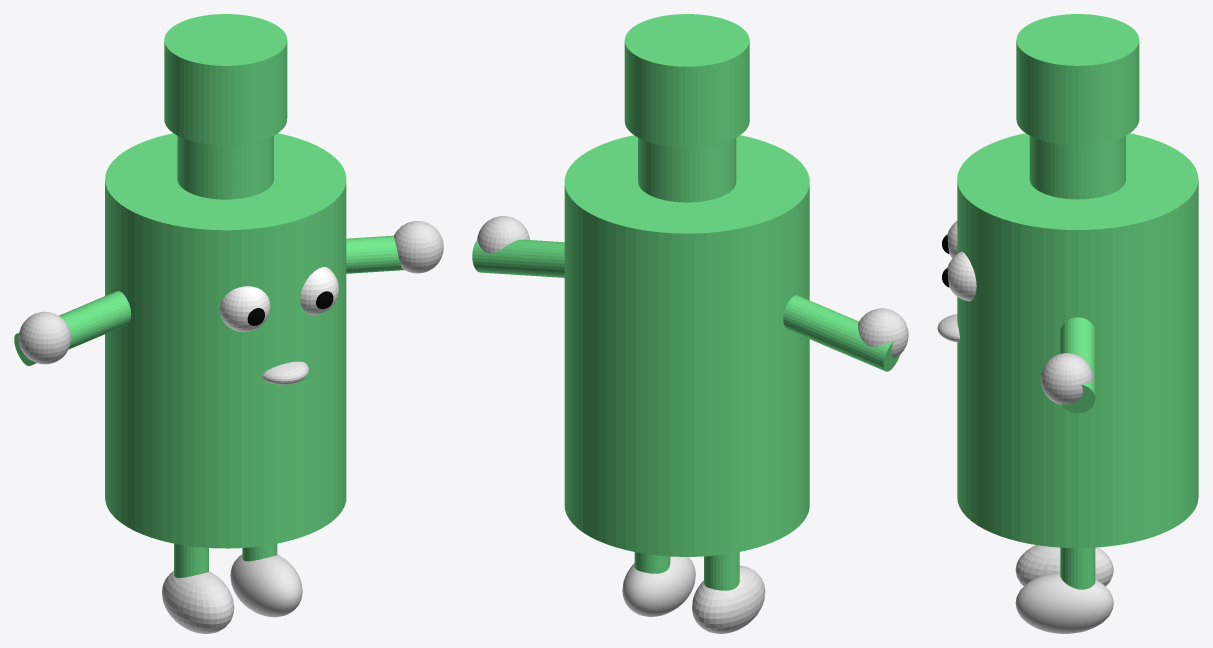
File: mascota.glb
3 views of the same model, side by side, from view 1: azimuth 30°, elevation 25°; view 2: azimuth 150°, elevation 25°; view 3: azimuth 270°, elevation 25° (orthographic).
Parts seen in each view (by area): view 1: Cuerpo, Cilindro.001, Cilindro, Esfera.008, Esfera.007, Cilindro.002, Esfera.005, Esfera.006, Cilindro.003, Esfera, Esfera.002, Cilindro.004 (+1 smaller); view 2: Cuerpo, Cilindro.001, Cilindro, Cilindro.002, Esfera.007, Esfera.008, Cilindro.003, Esfera.005, Esfera.006, Cilindro.004, Cilindro.005; view 3: Cuerpo, Cilindro.001, Cilindro, Esfera.008, Esfera.006, Cilindro.003, Esfera.007, Cilindro.005, Esfera.002, Esfera.004.
Part boxes in pixels (x1=…): Cuerpo: x1=105, y1=133, x2=346, y2=548; Cilindro.001: x1=164, y1=14, x2=287, y2=145; Cilindro: x1=177, y1=135, x2=273, y2=199; Esfera.008: x1=230, y1=554, x2=302, y2=617; Esfera.007: x1=162, y1=571, x2=234, y2=633; Cilindro.002: x1=14, y1=291, x2=131, y2=365; Esfera.005: x1=18, y1=311, x2=71, y2=364; Esfera.006: x1=394, y1=221, x2=443, y2=273; Cilindro.003: x1=346, y1=235, x2=404, y2=273; Esfera: x1=219, y1=286, x2=270, y2=331; Esfera.002: x1=300, y1=267, x2=338, y2=315; Cilindro.004: x1=174, y1=543, x2=208, y2=577; Cuerpo: x1=564, y1=135, x2=809, y2=556; Cilindro.001: x1=624, y1=14, x2=749, y2=147; Cilindro: x1=638, y1=137, x2=736, y2=202; Cilindro.002: x1=783, y1=295, x2=899, y2=371; Esfera.007: x1=692, y1=565, x2=765, y2=633; Esfera.008: x1=622, y1=556, x2=695, y2=616; Cilindro.003: x1=472, y1=239, x2=564, y2=277; Esfera.005: x1=858, y1=308, x2=908, y2=357; Esfera.006: x1=477, y1=216, x2=529, y2=253; Cilindro.004: x1=704, y1=552, x2=739, y2=590; Cilindro.005: x1=634, y1=552, x2=670, y2=573; Cuerpo: x1=957, y1=133, x2=1198, y2=547; Cilindro.001: x1=1016, y1=14, x2=1139, y2=145; Cilindro: x1=1029, y1=136, x2=1125, y2=199; Esfera.008: x1=1015, y1=573, x2=1113, y2=633; Esfera.006: x1=1040, y1=353, x2=1093, y2=404; Cilindro.003: x1=1060, y1=317, x2=1095, y2=413; Esfera.007: x1=1015, y1=545, x2=1113, y2=586; Cilindro.005: x1=1060, y1=547, x2=1095, y2=589; Esfera.002: x1=947, y1=251, x2=976, y2=301; Esfera.004: x1=937, y1=314, x2=959, y2=342.
Bounding box in the file's own units: 2.2 × 2.89 × 1.19.
